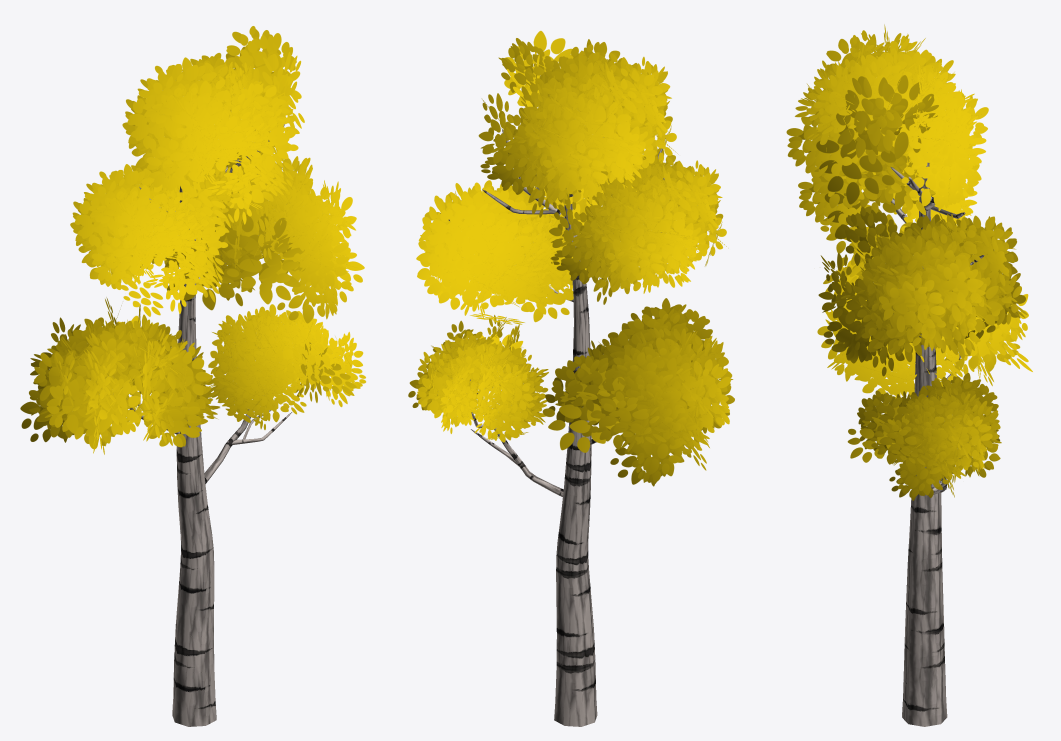
File: BirchTree_1.glb
3 views of the same model, side by side, from view 1: azimuth 30°, elevation 25°; view 2: azimuth 150°, elevation 25°; view 3: azimuth 270°, elevation 25° (orthographic). The views are drawn at different scales.
Parts seen in each view (by area): view 1: BirchTree_1; view 2: BirchTree_1; view 3: BirchTree_1.
Boxes of the visible parts, x1,y1,x2,y2 form: BirchTree_1: (20, 26, 365, 726); BirchTree_1: (408, 30, 734, 726); BirchTree_1: (786, 24, 1032, 726).
Size of the model in its own units: 2.71 by 5.45 by 1.94.
Materials: 2 (2 with a texture image).
